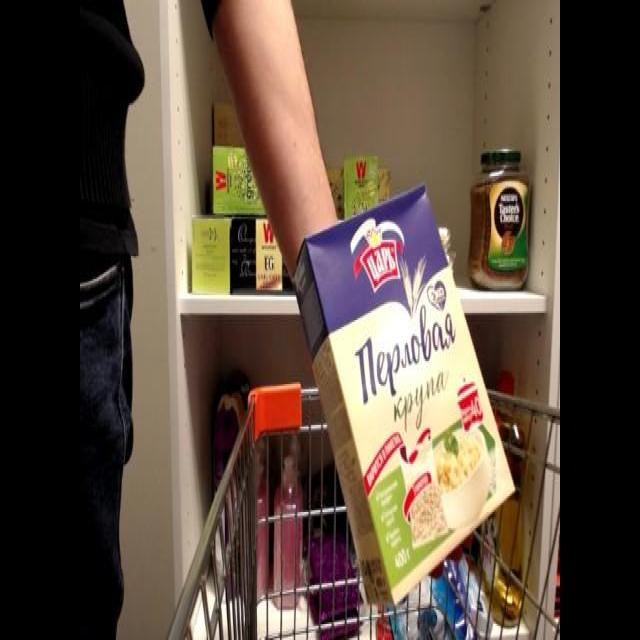Groats: (293, 178, 519, 617)
